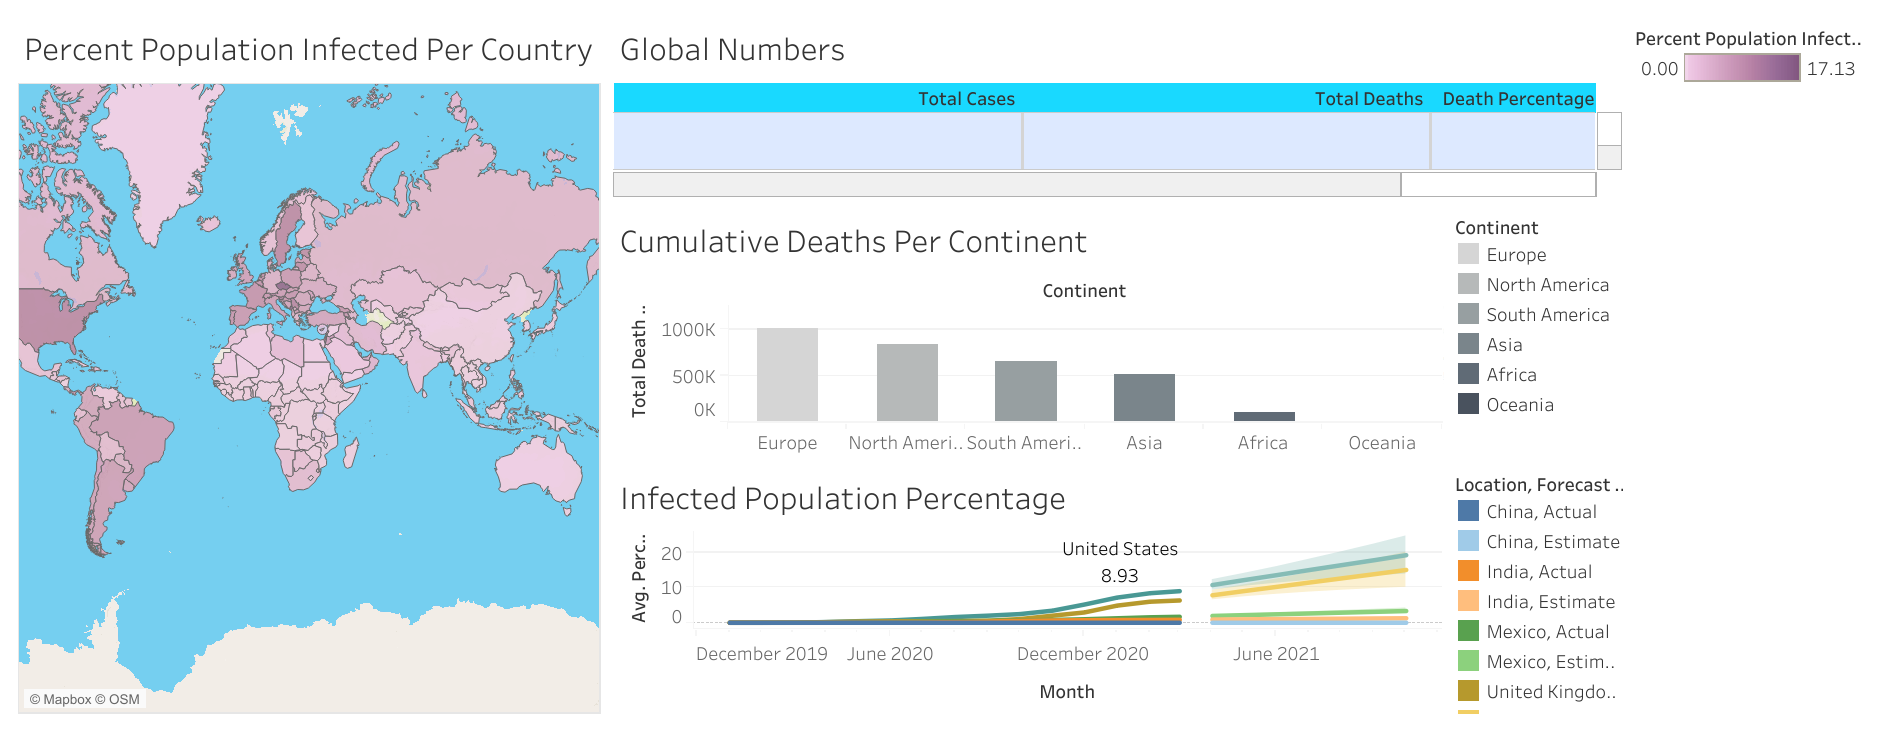

Layout of this report page (visuals, bound fields, positions):
{"tool":"tableau","page":{"name":"Dashboard 1","canvas":[1000,1000],"units":"permille","ordinal":0},"visuals":[{"type":"worksheet","title":"Sheet 3","mark":"Automatic","box":[5,9.4,327.9,981.3]},{"type":"worksheet","title":"Sheet 1","mark":"Automatic","box":[332.9,9.4,562.3,266.7]},{"type":"legend","title":"Sheet 3","param":"[federated.13nnki610bfwdv1gimwk812ldiys].[sum:PercentPopulationInfected:qk]","box":[895.3,9.4,99.8,94.7]},{"type":"worksheet","title":"Sheet 2","mark":"Automatic","rows":["TotalDeathCount"],"cols":["location"],"box":[332.9,276,462.6,355.6]},{"type":"legend","title":"Sheet 2","param":"[federated.15djedd1e37jah180psyf0e2ud7h].[none:location:nk]","box":[795.5,276,99.8,355.6]},{"type":"worksheet","title":"Sheet 4","mark":"Automatic","rows":["PercentPopulationInfected"],"cols":["date"],"box":[332.9,631.6,462.6,359.1]},{"type":"legend","title":"Sheet 4","param":"[federated.00c5t5g1f8j2zn12xty8a1v3zhyb].[none:Location:nk]\n[federated.00c5t5g1f","box":[795.5,631.6,99.8,359.1]}]}

Visuals, with their boxes on the dashboard's canvas, which has no fixed pixel size, in thousandths of its width and height (x1, y1, x2, y2). These are canvas units, not pixel positions in the 1880x731 screenshot, which may show the page scaled, cropped or inside an application window:
"Sheet 3" worksheet: (left=5, top=9, right=333, bottom=991)
"Sheet 1" worksheet: (left=333, top=9, right=895, bottom=276)
"Sheet 3" legend: (left=895, top=9, right=995, bottom=104)
"Sheet 2" worksheet: (left=333, top=276, right=796, bottom=632)
"Sheet 2" legend: (left=796, top=276, right=895, bottom=632)
"Sheet 4" worksheet: (left=333, top=632, right=796, bottom=991)
"Sheet 4" legend: (left=796, top=632, right=895, bottom=991)
